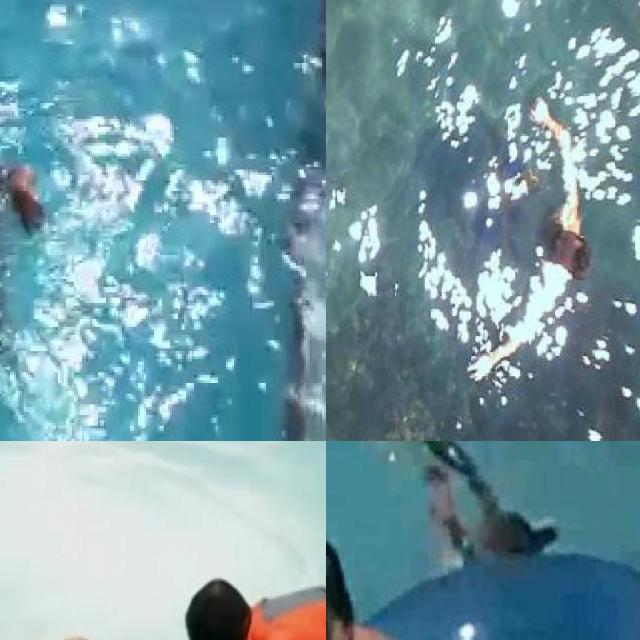drowning: (358, 441, 576, 554), (0, 105, 55, 418)
out of water: (155, 554, 326, 640)
swimming: (448, 93, 629, 371), (326, 560, 429, 640)
